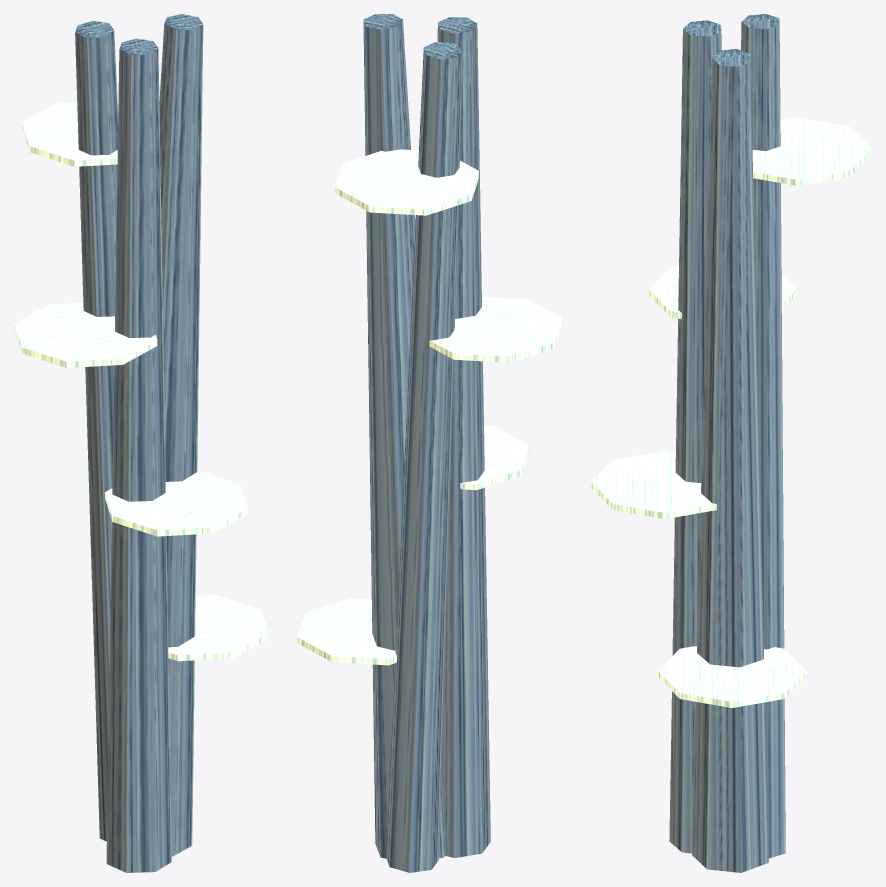
Rendered from rootPillar.glb.
3 renders of one model, left to right at view 1: azimuth 30°, elevation 25°; view 2: azimuth 150°, elevation 25°; view 3: azimuth 270°, elevation 25°, orthographic.
Parts seen in each view (by area): view 1: LOD0._kind_trim_band_reef_repeat_2_; view 2: LOD0._kind_trim_band_reef_repeat_2_; view 3: LOD0._kind_trim_band_reef_repeat_2_.
Part boxes in pixels (box(x1,y1,x2,y2)): LOD0._kind_trim_band_reef_repeat_2_: box(14, 14, 268, 872); LOD0._kind_trim_band_reef_repeat_2_: box(297, 14, 562, 872); LOD0._kind_trim_band_reef_repeat_2_: box(591, 14, 871, 872).
Size of what is drawn, in the model's own units: 50.28 by 160 by 50.1.
Materials: 1 (1 with a texture image).
